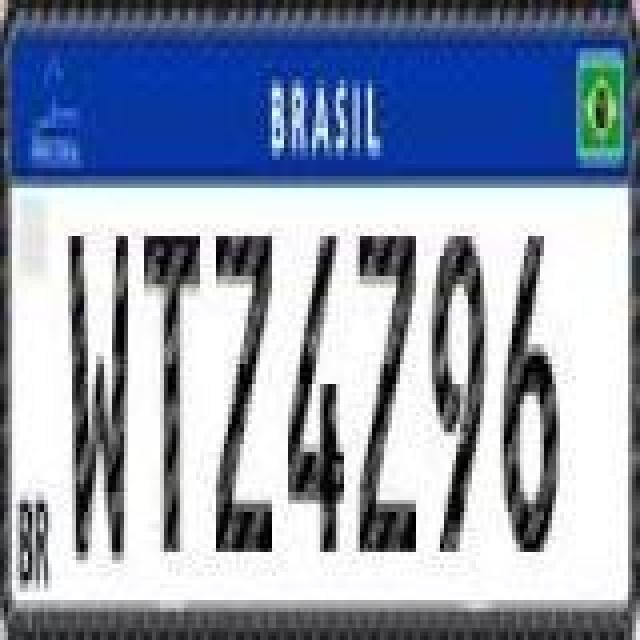4: (280, 224, 344, 560)
6: (496, 224, 560, 560)
9: (426, 220, 486, 556)
T: (140, 230, 204, 554)
W: (64, 232, 128, 568)
Z: (212, 230, 276, 554), (356, 230, 420, 554)
